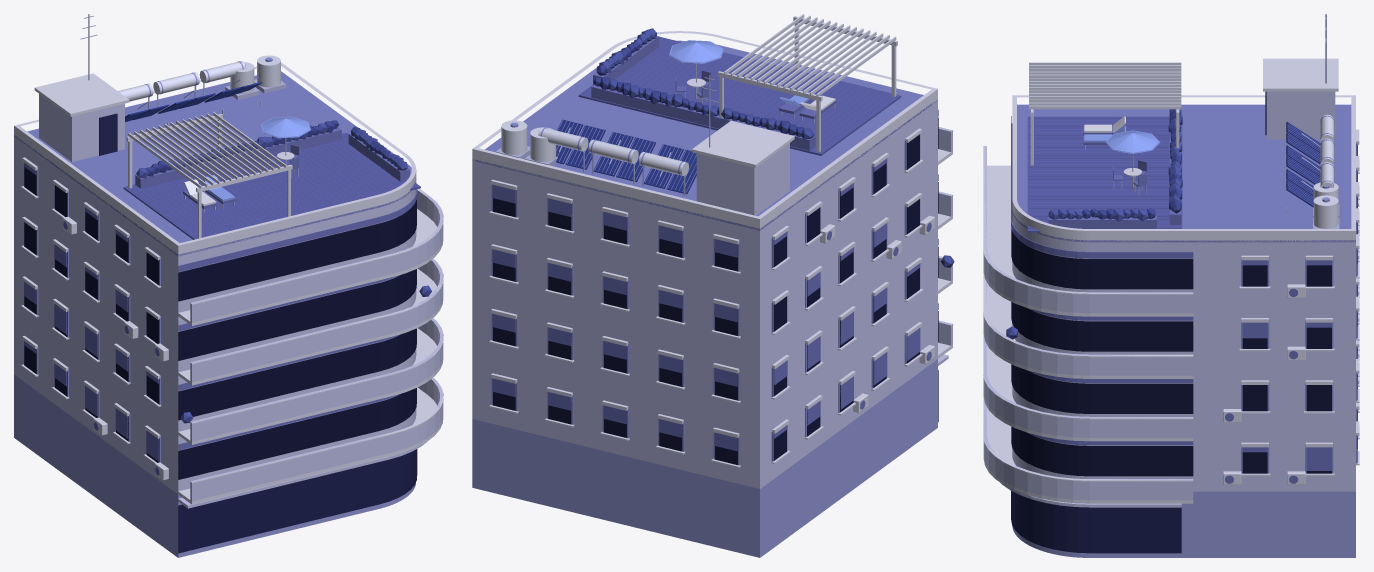
The model's file is blockHero.glb.
3 renders of one model, left to right at view 1: azimuth 30°, elevation 25°; view 2: azimuth 150°, elevation 25°; view 3: azimuth 270°, elevation 25°, orthographic. The views are drawn at different scales.
Visible parts, largest first — view 1: mass, balcony_3, balcony_1, balcony_0, balcony_2, ground, deck, roofDeck, body, shopGlass, pergola, parapet (+9 smaller); view 2: mass, body, ground, roofDeck, deck, parapet, pergola, roofRoom, planter (×2), tank (×3), terrace, solarHeater1 (+5 smaller); view 3: mass, roofDeck, balcony_3, balcony_2, balcony_0, balcony_1, ground, deck, body, shopGlass, pergola, parapet (+11 smaller).
Boxes of the visible parts, bbox=[...] form: mass: bbox=[14, 136, 416, 494]; balcony_3: bbox=[178, 188, 443, 325]; balcony_1: bbox=[178, 318, 443, 444]; balcony_0: bbox=[178, 377, 443, 504]; balcony_2: bbox=[178, 258, 443, 385]; ground: bbox=[14, 374, 415, 557]; deck: bbox=[123, 132, 420, 239]; roofDeck: bbox=[14, 71, 416, 256]; body: bbox=[21, 157, 168, 480]; shopGlass: bbox=[178, 449, 417, 553]; pergola: bbox=[126, 112, 292, 238]; parapet: bbox=[14, 62, 416, 256]; mass: bbox=[472, 101, 937, 488]; body: bbox=[489, 128, 934, 467]; ground: bbox=[472, 359, 937, 557]; roofDeck: bbox=[472, 40, 937, 230]; deck: bbox=[578, 36, 901, 155]; parapet: bbox=[472, 31, 937, 230]; pergola: bbox=[718, 14, 897, 152]; roofRoom: bbox=[692, 120, 794, 215]; planter (×2): bbox=[591, 28, 815, 150]; tank (×3): bbox=[538, 127, 688, 176]; terrace: bbox=[584, 38, 897, 153]; solarHeater1: bbox=[590, 132, 655, 183]; mass: bbox=[1012, 212, 1355, 491]; roofDeck: bbox=[1012, 104, 1355, 242]; balcony_3: bbox=[983, 116, 1193, 316]; balcony_2: bbox=[983, 252, 1193, 378]; balcony_0: bbox=[983, 376, 1193, 503]; balcony_1: bbox=[983, 314, 1193, 441]; ground: bbox=[1012, 491, 1355, 557]; deck: bbox=[1027, 116, 1182, 232]; body: bbox=[1223, 129, 1359, 484]; shopGlass: bbox=[1011, 491, 1181, 553]; pergola: bbox=[1029, 62, 1181, 165]; parapet: bbox=[1012, 95, 1355, 242].
Bounding box in the file's own units: 15.61 × 21.15 × 16.44.
